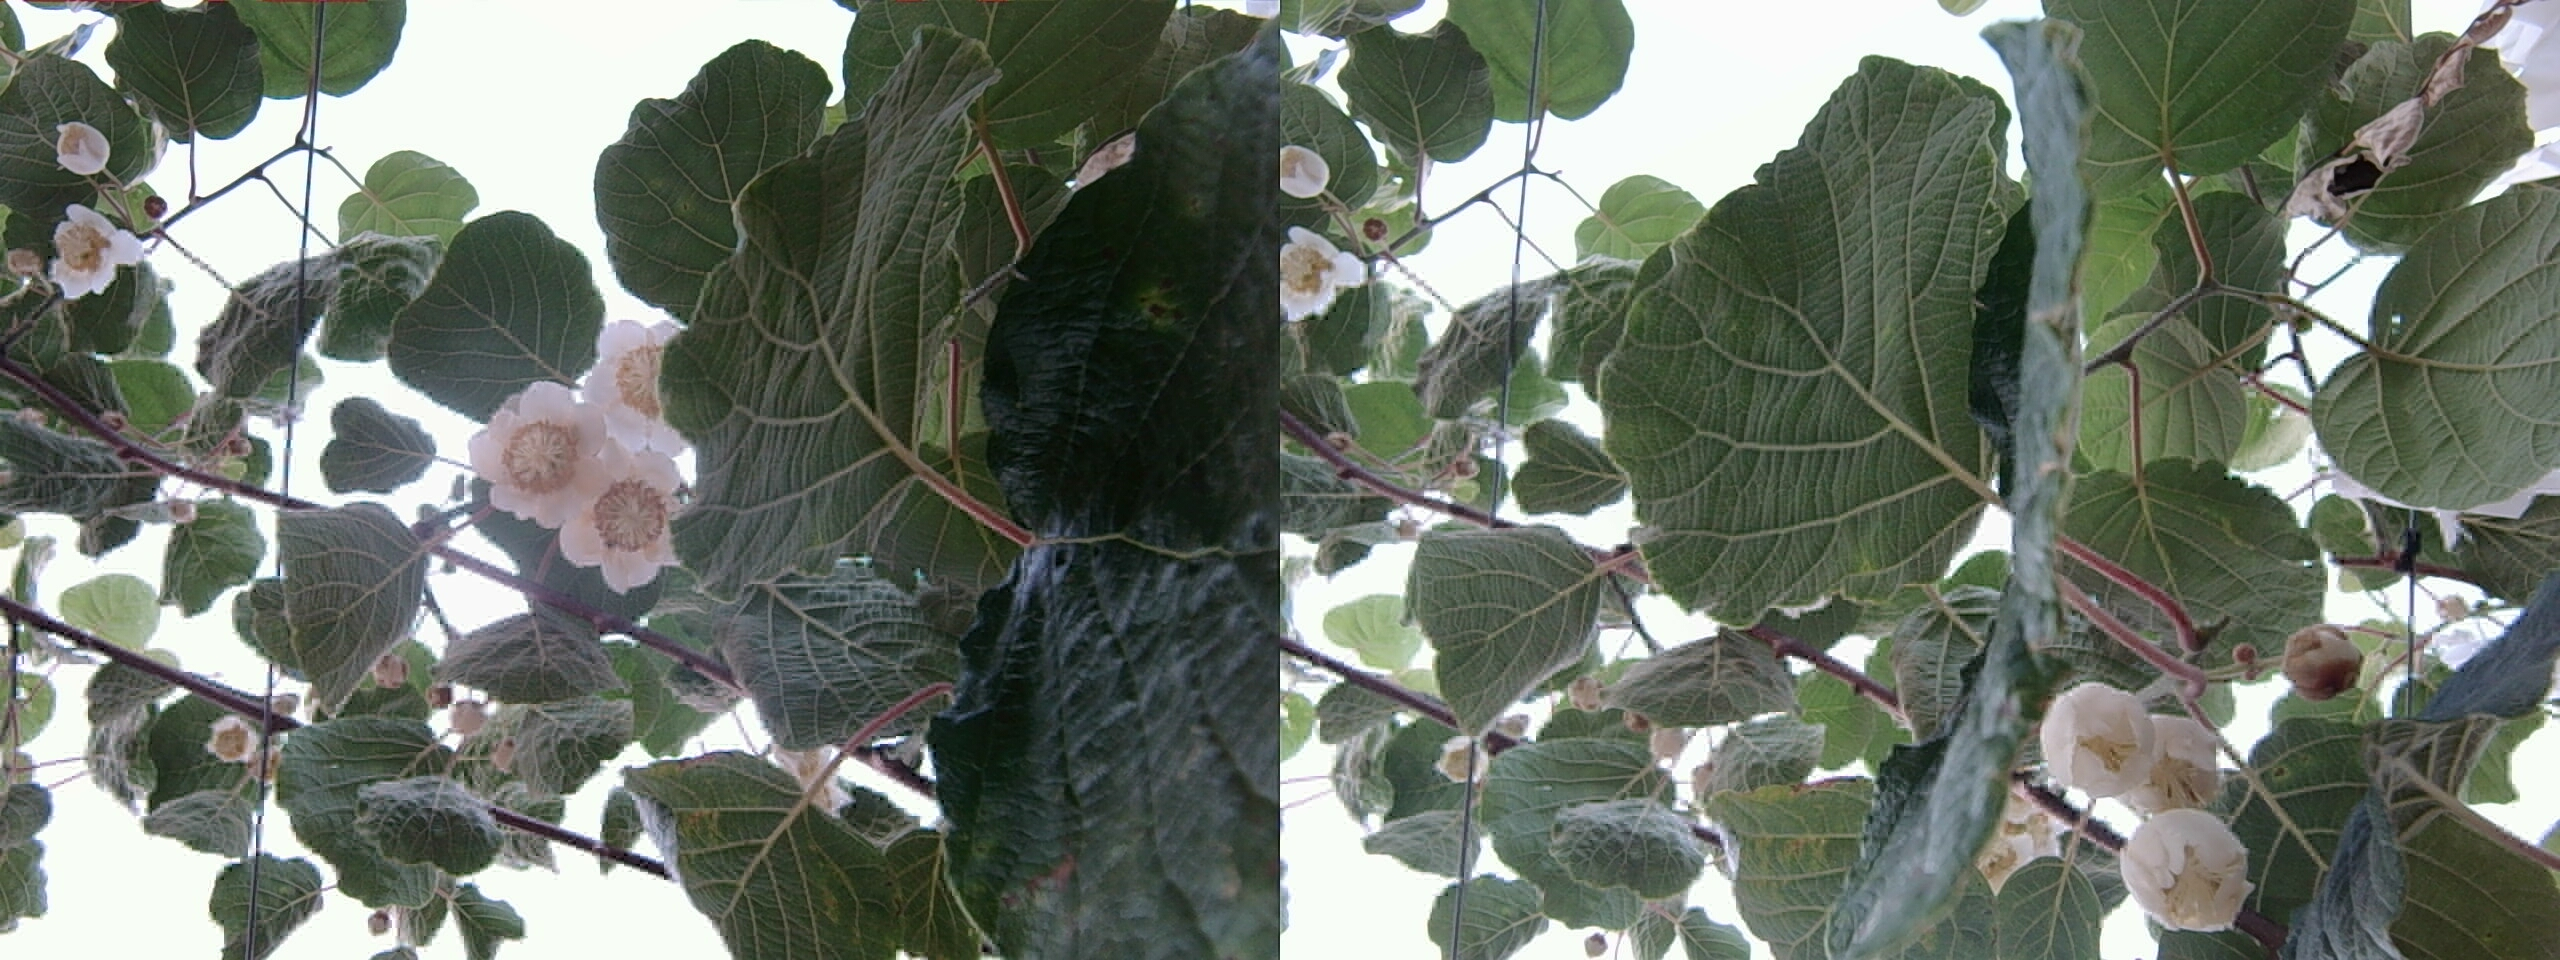flower: (459, 372, 694, 576), (542, 429, 696, 586), (2047, 684, 2212, 816), (2121, 807, 2247, 927)
